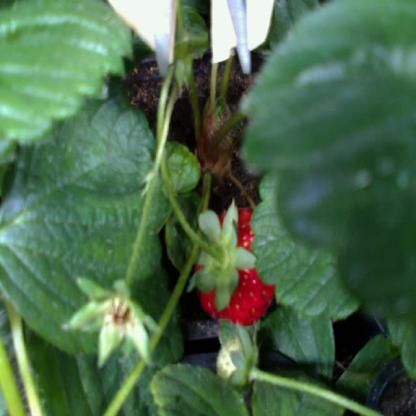ripe: (198, 211, 278, 324)
